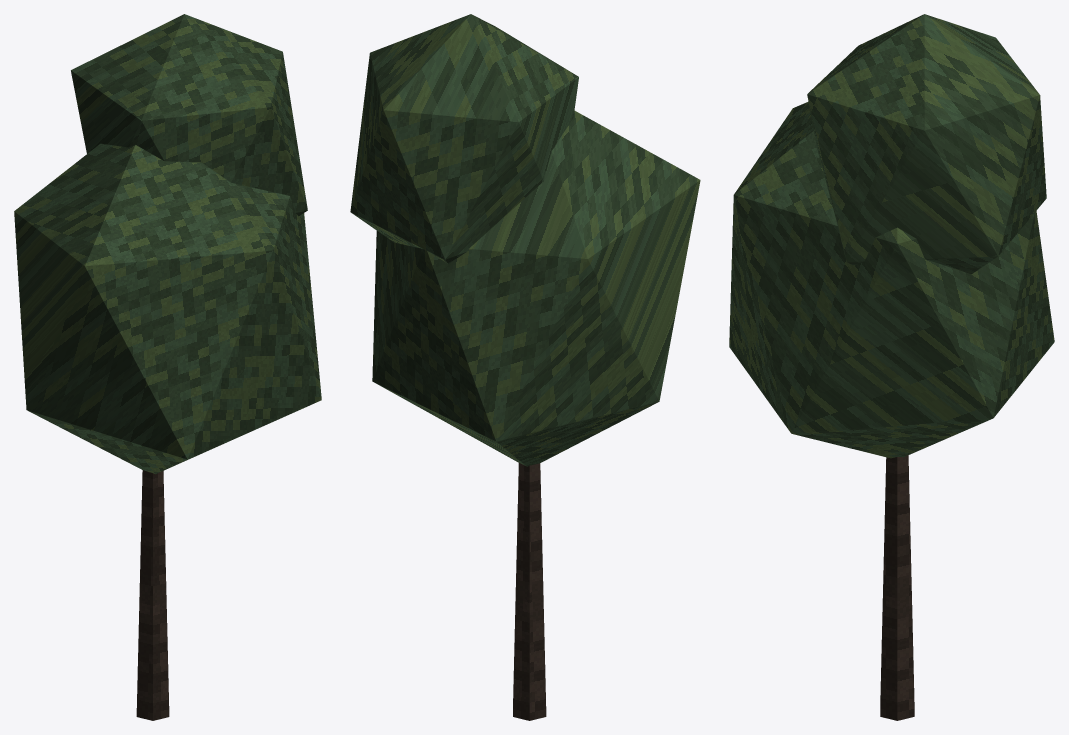
The model's file is ENV_C_TreeRound.fbx.
3 views of the same model, side by side, from view 1: azimuth 30°, elevation 25°; view 2: azimuth 150°, elevation 25°; view 3: azimuth 270°, elevation 25° (orthographic). The views are drawn at different scales.
Parts seen in each view (by area): view 1: ENV_C_TreeRound; view 2: ENV_C_TreeRound; view 3: ENV_C_TreeRound.
Boxes of the visible parts, left/top/right/bottom form: ENV_C_TreeRound: left=14, top=14, right=321, bottom=720; ENV_C_TreeRound: left=350, top=14, right=700, bottom=720; ENV_C_TreeRound: left=729, top=14, right=1054, bottom=720.
Bounding box in the file's own units: 371 × 880 × 360.
Materials: 2 (2 with a texture image).
